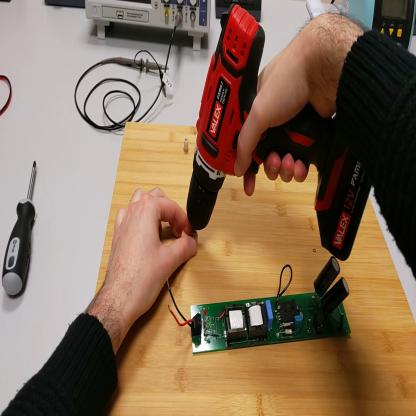electric screwdriver: (187, 3, 372, 262)
hand: (236, 24, 336, 196), (107, 186, 200, 320)
high voltage board: (168, 253, 355, 357)
oscilloscope: (85, 1, 212, 54)
oscilloscope probe tip: (111, 53, 169, 74)
screwdriver-: (3, 156, 42, 299)
socket: (46, 1, 86, 11), (1, 2, 13, 5)
welder station: (348, 1, 416, 52)
working area: (95, 124, 416, 416)
